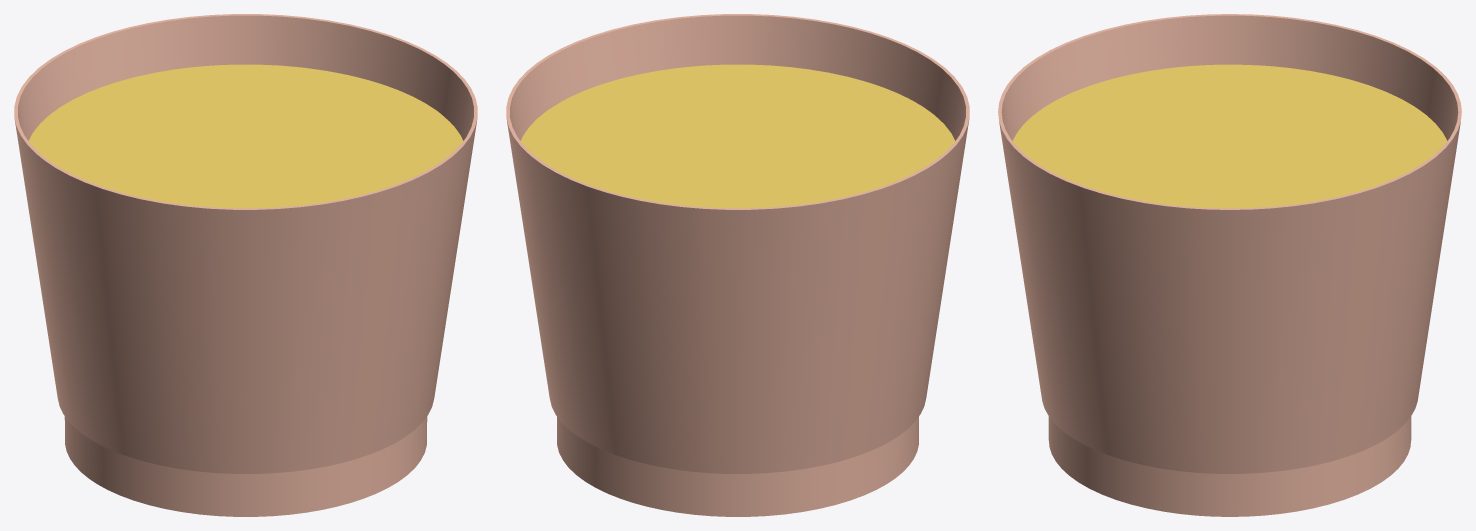
Rendered from 103_ヨーグルトやゼリーのカップ開.glb.
3 views of the same model, side by side, from view 1: azimuth 30°, elevation 25°; view 2: azimuth 150°, elevation 25°; view 3: azimuth 270°, elevation 25° (orthographic).
Visible parts, largest first — view 1: body, 中身; view 2: body, 中身; view 3: body, 中身.
Boxes of the visible parts, <box> form: body: <box>14,14,477,516</box>; 中身: <box>29,64,462,208</box>; body: <box>506,14,969,516</box>; 中身: <box>521,64,954,208</box>; body: <box>998,14,1461,516</box>; 中身: <box>1013,64,1446,208</box>.
Bounding box in the file's own units: 0.064 × 0.05 × 0.064.
